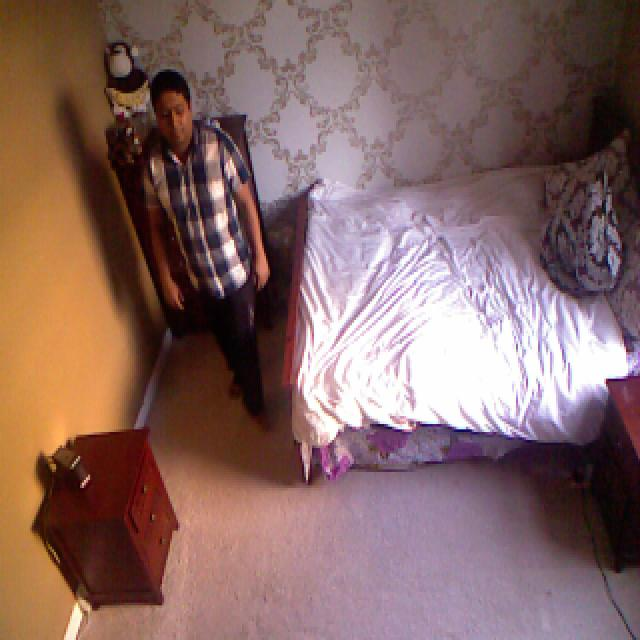standing: (136, 74, 287, 440)
